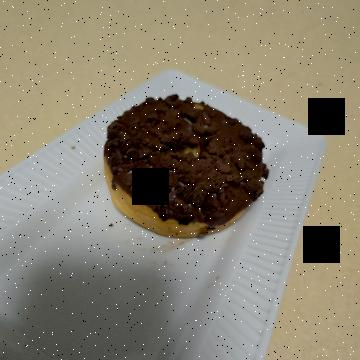doughnut: (78, 78, 250, 274)
